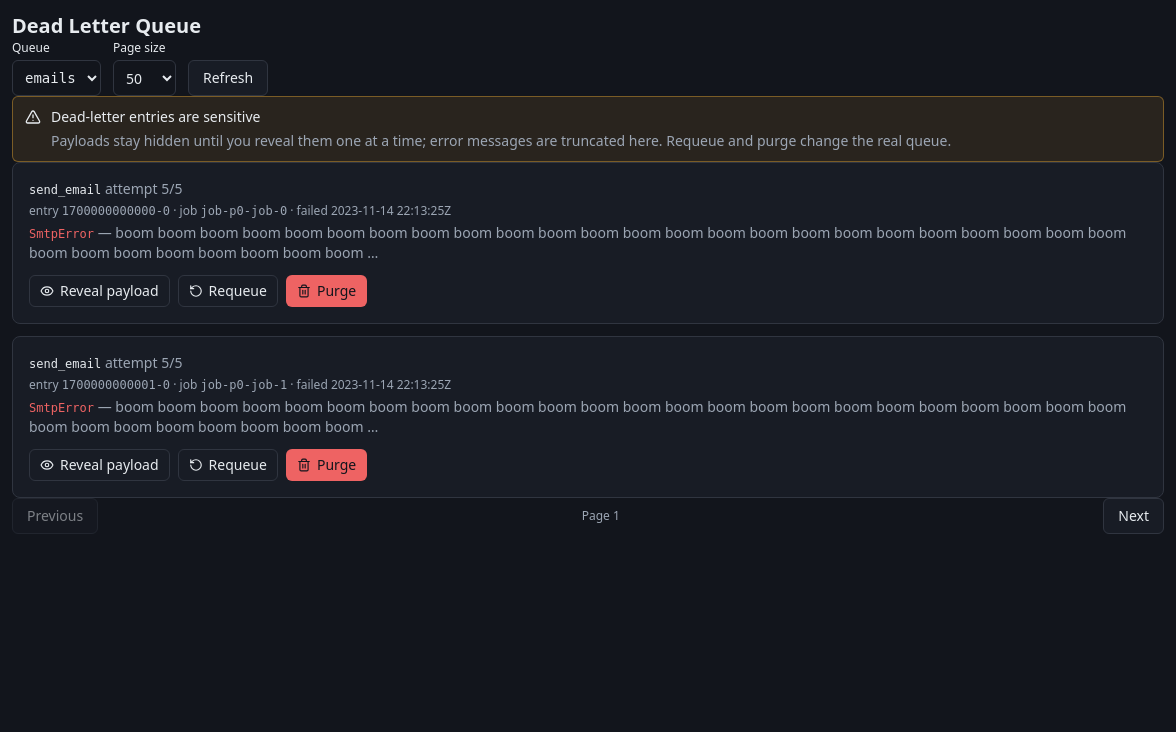
Test: dead-letter queue › reveals a single payload only on explicit request, and can hide it again
expect the text "job-p0-job-0" is shown: met, box [200, 204, 287, 218]
Click the button "Reveal payload" below "1700000000000-0".
click(99, 291)  # box [29, 275, 170, 307]
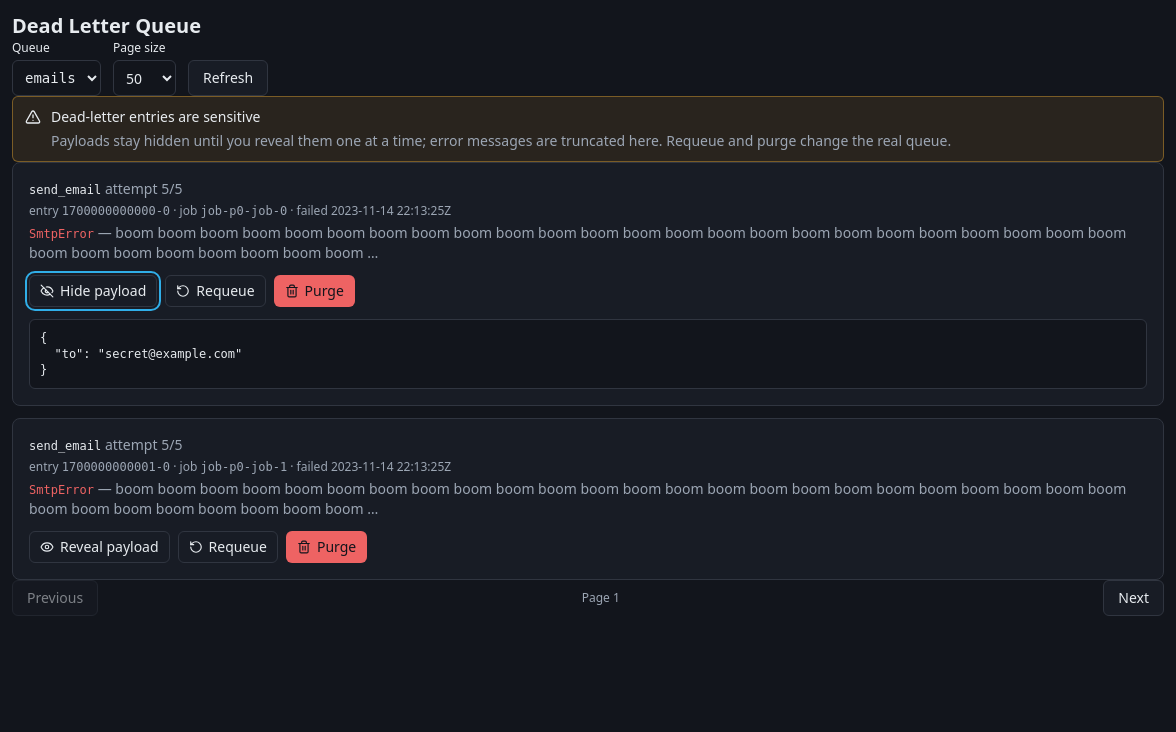
expect the text named "Payload of 1700000000000-0" shows "secret@example.com": met, box [40, 331, 242, 377]
expect the number of elements named "Payload of" is 1: met, box [29, 319, 1147, 389]
Click the button "Hide payload".
click(93, 291)  # box [29, 275, 157, 307]
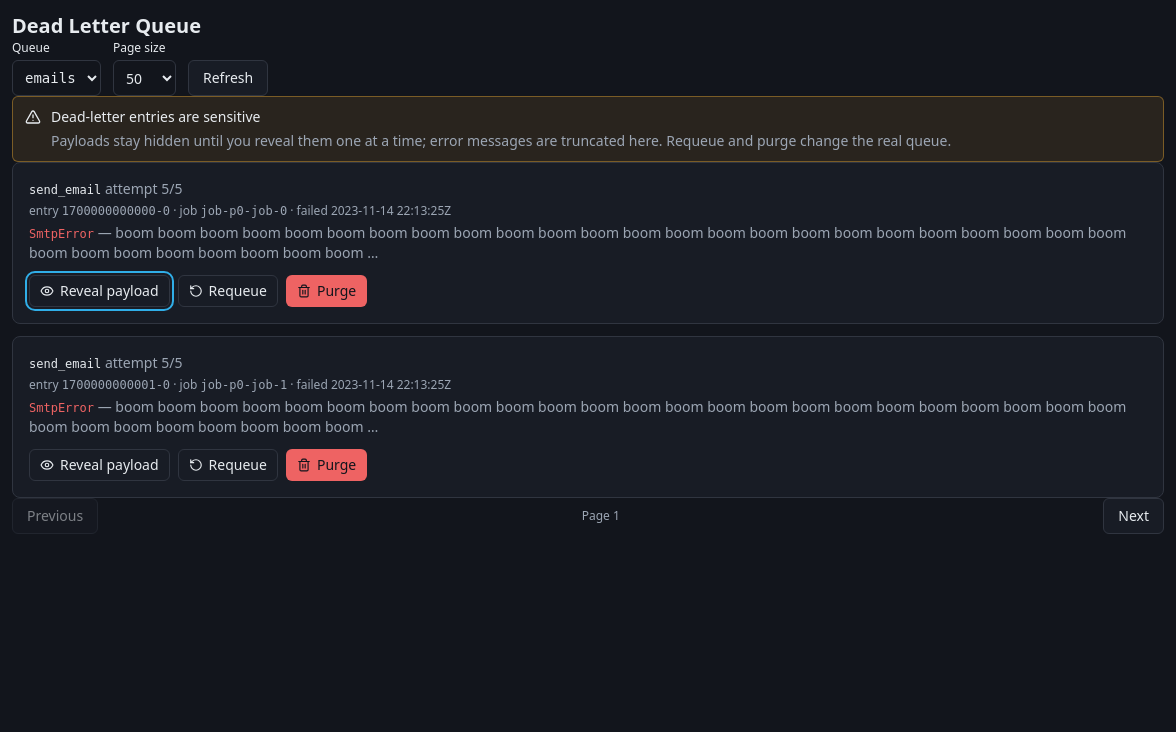
expect the text "secret@example.com" is gone: met
